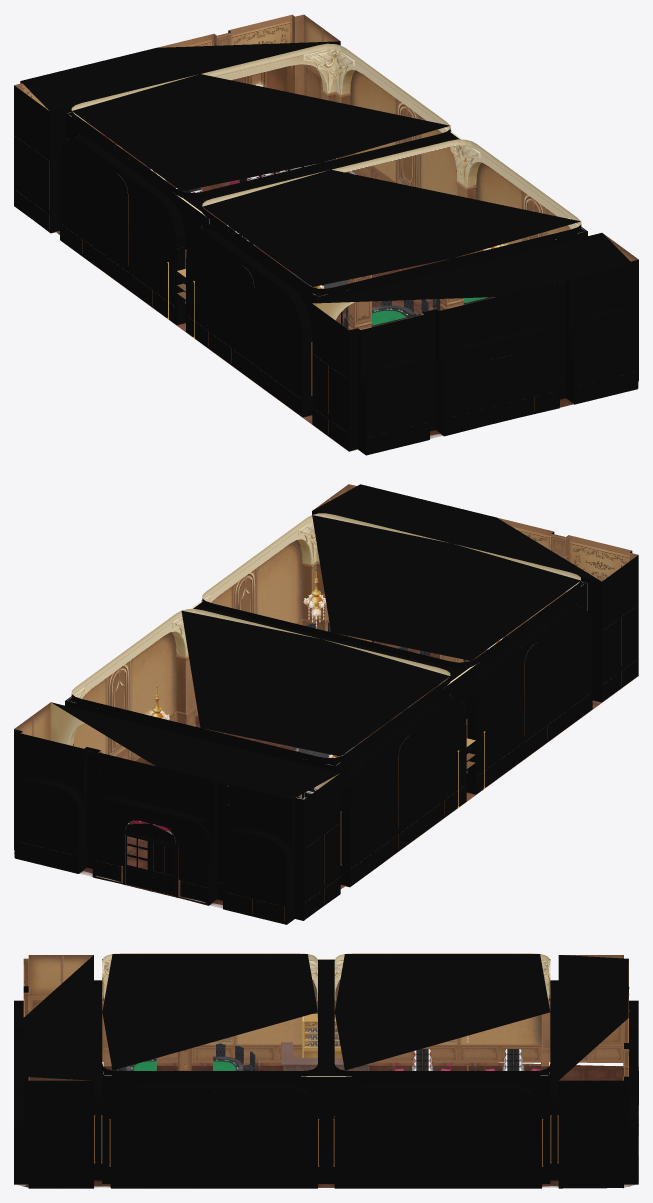
The model's file is gameready_casino_scene.glb.
3 views of the same model, one above another, from view 1: azimuth 30°, elevation 25°; view 2: azimuth 150°, elevation 25°; view 3: azimuth 270°, elevation 25° (orthographic). The views are drawn at different scales.
Visible parts, largest first — view 1: Material2 (×2), Material3 (×3); view 2: Material2 (×3), Material3 (×3); view 3: Material2 (×3), Material3 (×6).
Boxes of the visible parts, x1,y1,x2,y2 form: Material2 (×2): [14, 30, 638, 454]; Material3 (×3): [14, 14, 638, 451]; Material2 (×3): [14, 484, 638, 924]; Material3 (×3): [14, 484, 638, 923]; Material2 (×3): [14, 954, 638, 1188]; Material3 (×6): [16, 953, 638, 1187].
Size of the model in its own units: 485 by 203 by 1017.
Materials: 12 (12 with a texture image).
